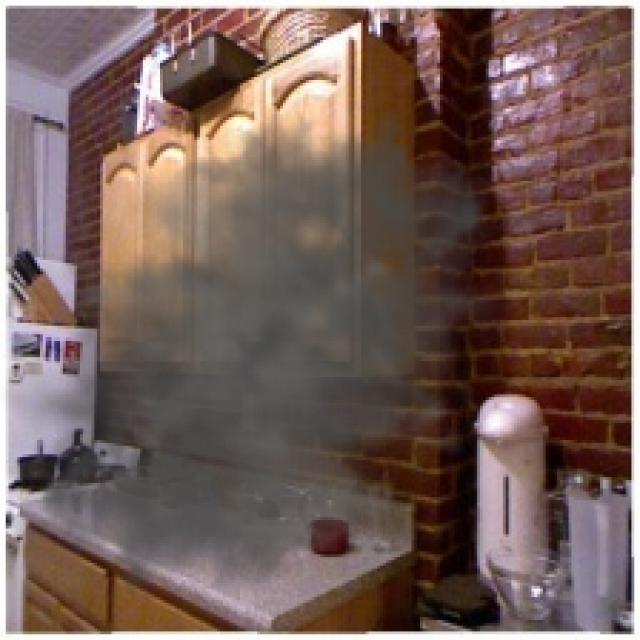smoke: (0, 77, 526, 632)
